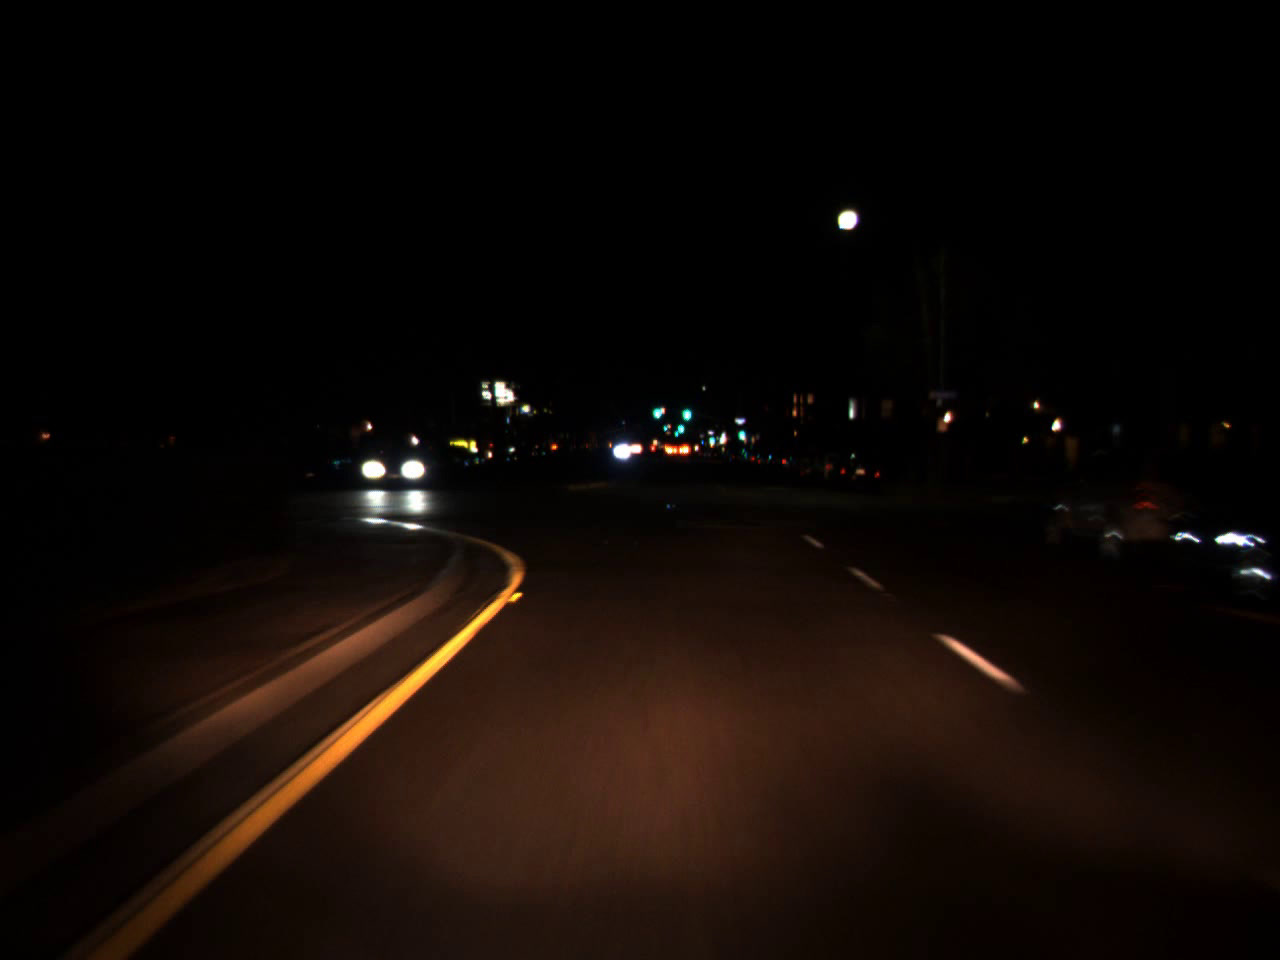go: (680, 395, 692, 425), (650, 395, 662, 422), (736, 420, 746, 441), (675, 415, 685, 436), (672, 423, 679, 438), (708, 432, 715, 444), (661, 421, 668, 433)
